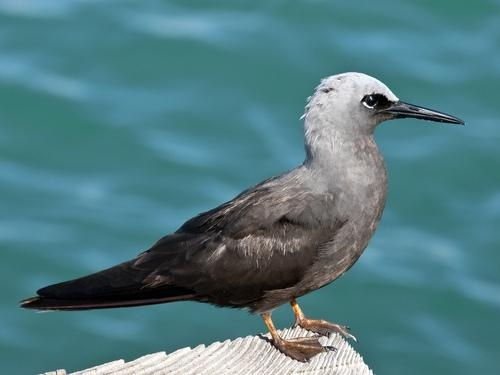bird: (16, 71, 469, 362)
